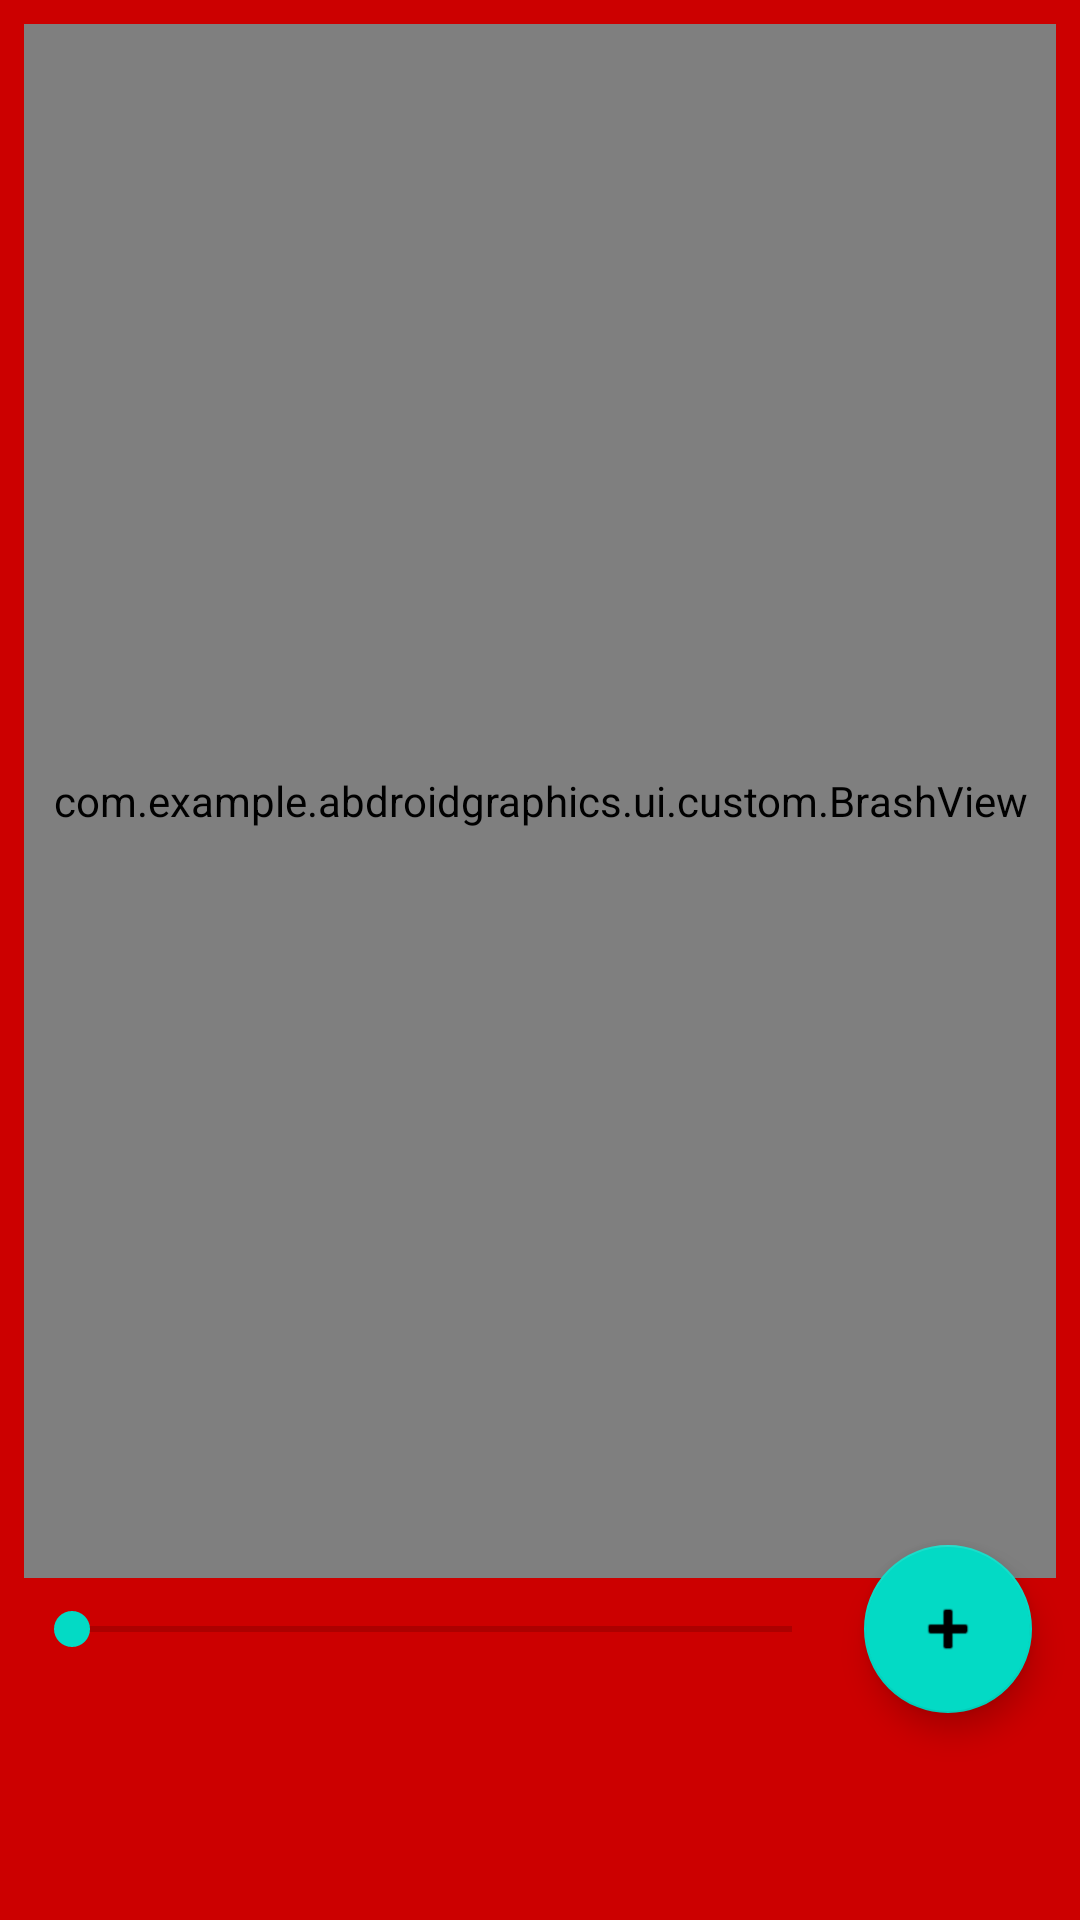

Point at icon controls on the screen. Image size 1080 x 1920, points as [x,y].
add: [948,1629]
